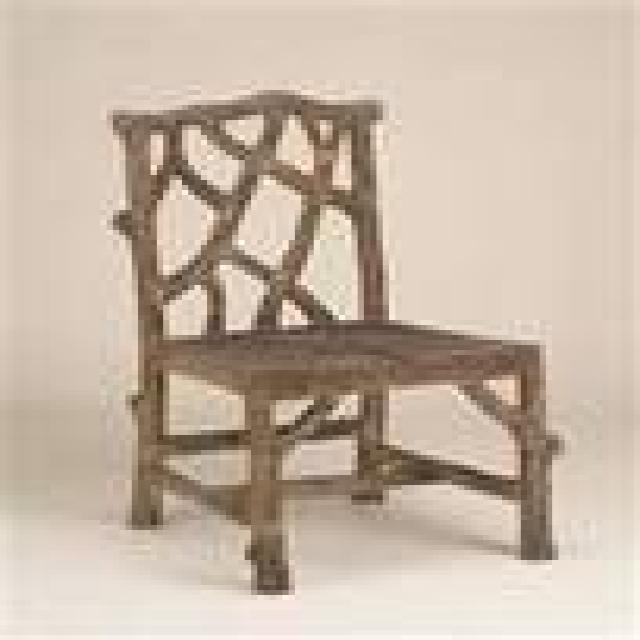chair: (109, 87, 564, 603)
